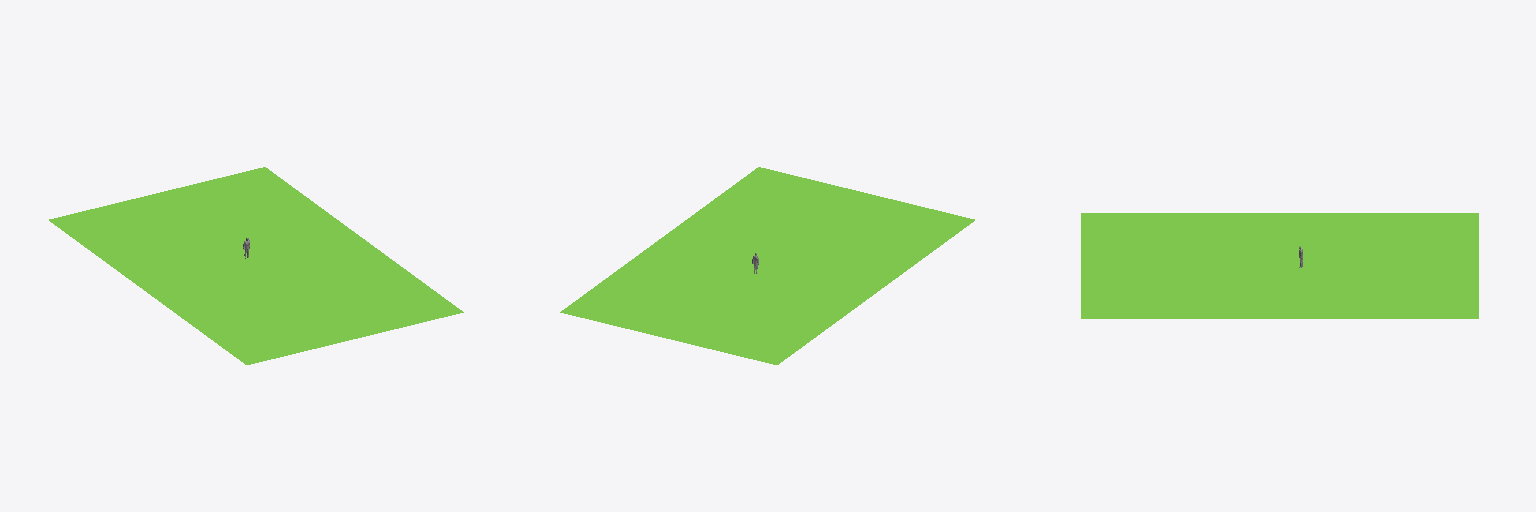
Rendered from HITMAN.obj.
The picture shows the model from 3 angles: view 1: azimuth 30°, elevation 25°; view 2: azimuth 150°, elevation 25°; view 3: azimuth 270°, elevation 25°; orthographic projection.
Parts seen in each view (by area): view 1: Plane01; view 2: Plane01; view 3: Plane01.
Part boxes in pixels (left/top/right/bottom): Plane01: left=49, top=167, right=463, bottom=364; Plane01: left=560, top=167, right=974, bottom=364; Plane01: left=1081, top=213, right=1478, bottom=318.
Bounding box in the file's own units: 14641 × 1318 × 23200.